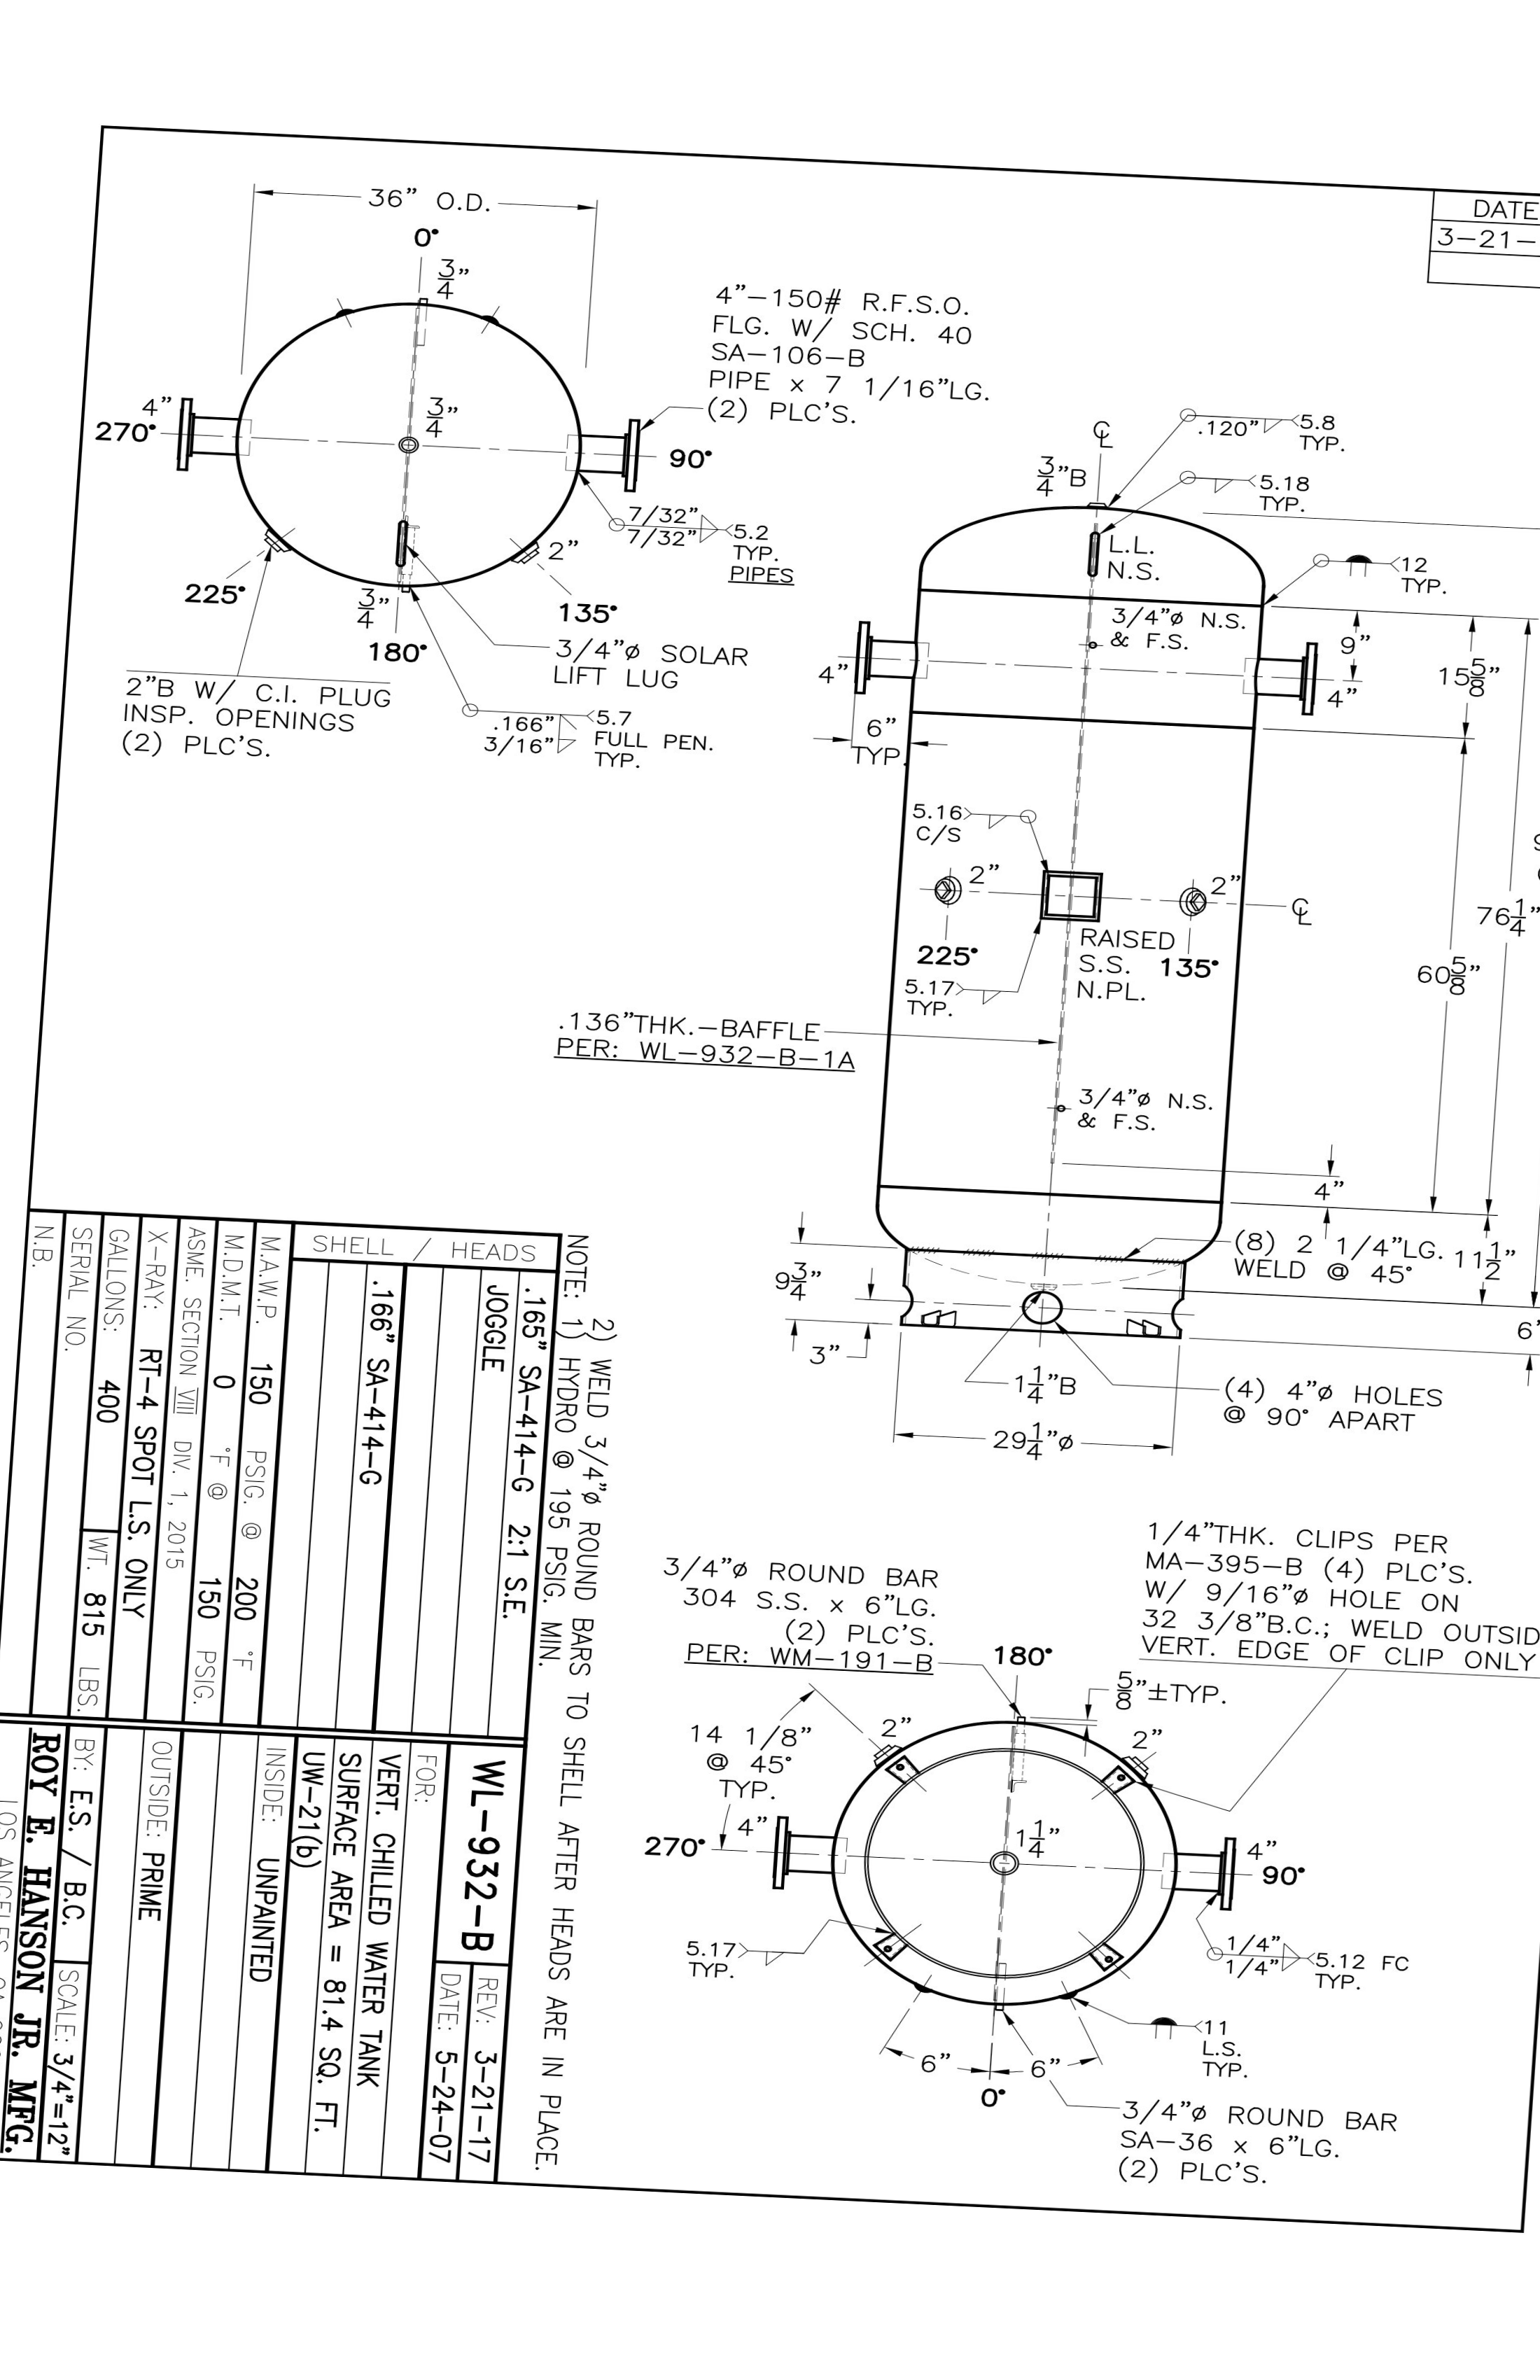Nozzle: (156, 373, 257, 513), (749, 1792, 874, 1903), (1242, 630, 1354, 746), (1143, 1820, 1271, 1919), (819, 597, 930, 697), (565, 397, 666, 505)
